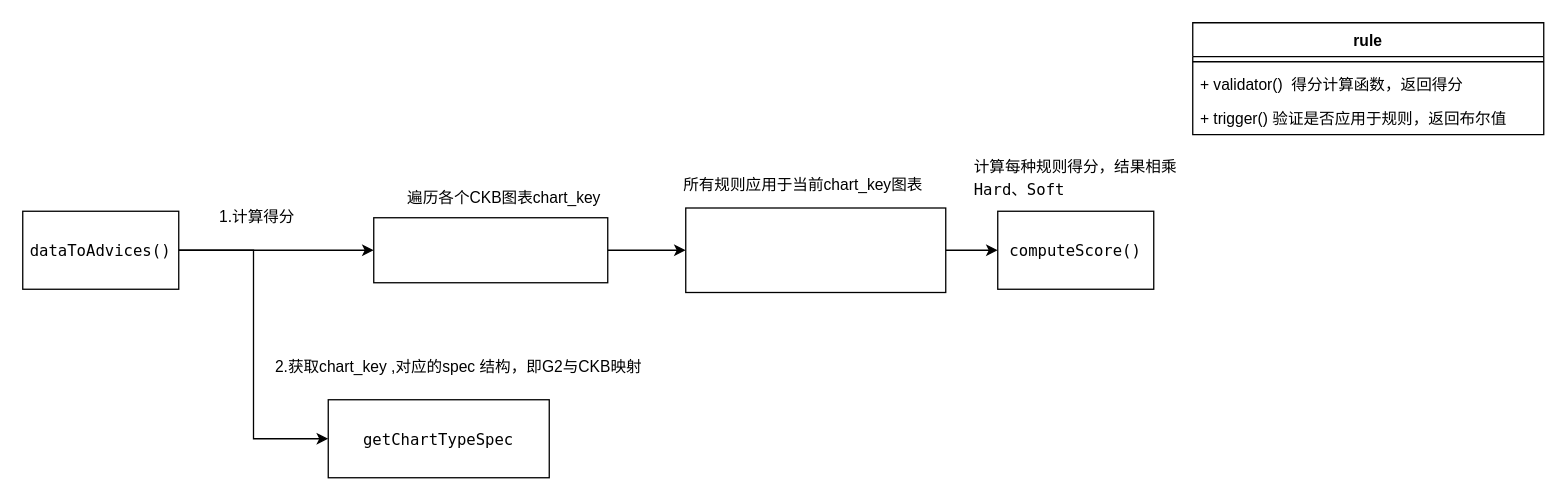
Image size: 1567x500. Some labels were removed from this diagram. The shapes that lost their labels are listed below. From the top down, each one's box as (x1, y1, x2, y2) in pixels, then its label:
(372, 216, 608, 283): CHART_ID_OPTIONS.map
(684, 207, 946, 292): scoreRules()
